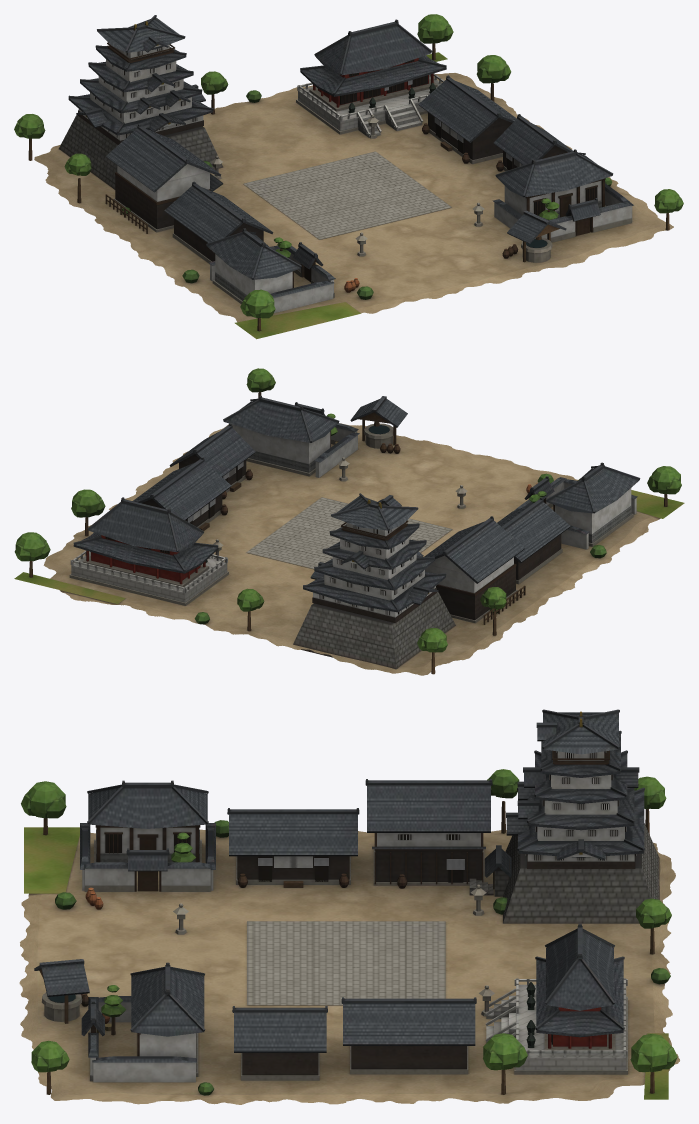
File: gunpowder-town-small-a-japan.glb
3 views of the same model, one above another, from view 1: azimuth 30°, elevation 25°; view 2: azimuth 150°, elevation 25°; view 3: azimuth 270°, elevation 25° (orthographic). The views are drawn at different scales.
Visible parts, largest first — view 1: LOD0; view 2: LOD0; view 3: LOD0.
Boxes of the visible parts, <box> form: LOD0: <box>14,14,683,339</box>; LOD0: <box>14,368,684,675</box>; LOD0: <box>19,709,679,1104</box>.
Size of what is drawn, in the model's own units: 4.02 by 1.2 by 4.06.
Materials: 3 (3 with a texture image).
